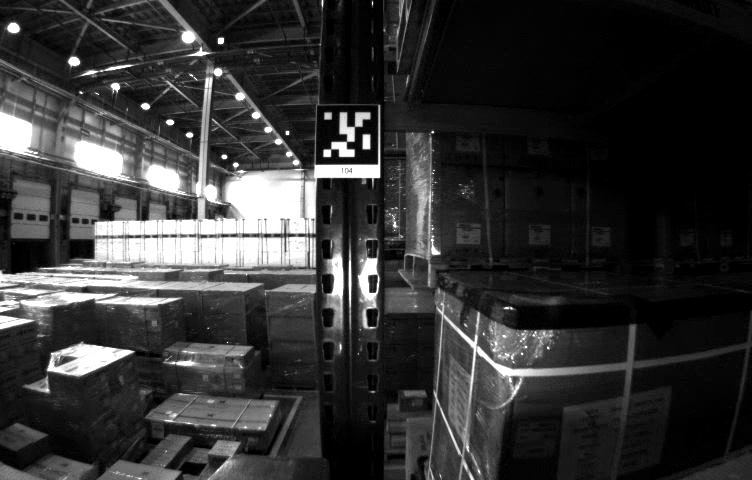True Barcode: (516, 421, 553, 456)
